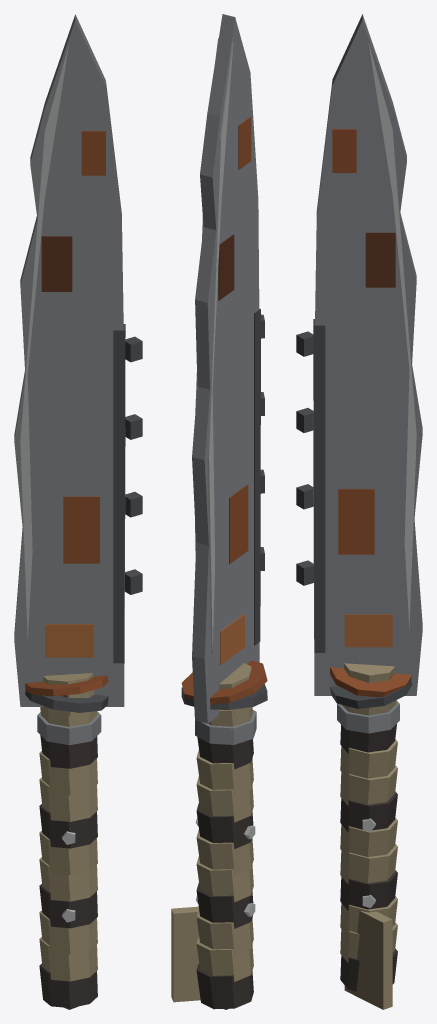
Rendered from melee_makeshift_blade.fbx.
The picture shows the model from 3 angles, left to right: view 1: azimuth 90°, elevation 25°; view 2: azimuth 150°, elevation 25°; view 3: azimuth 270°, elevation 25°; orthographic projection.
Visible parts, largest first — view 1: melee_makeshift_blade; view 2: melee_makeshift_blade; view 3: melee_makeshift_blade.
Boxes of the visible parts, x1=… form: melee_makeshift_blade: x1=14, y1=14, x2=142, y2=1009; melee_makeshift_blade: x1=171, y1=14, x2=267, y2=1009; melee_makeshift_blade: x1=296, y1=14, x2=422, y2=1009.
Bounding box in the file's own units: 0.079 × 0.8961 × 0.1051.
